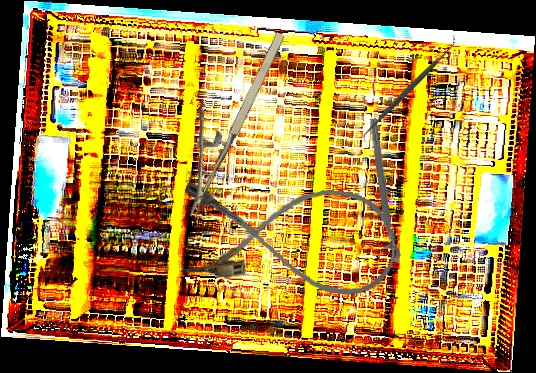Cannula: (176, 175, 401, 299)
Fixation Ring: (357, 117, 402, 265)
Needle Holder: (152, 16, 291, 219)
Spatula Surgical: (355, 34, 464, 143)
